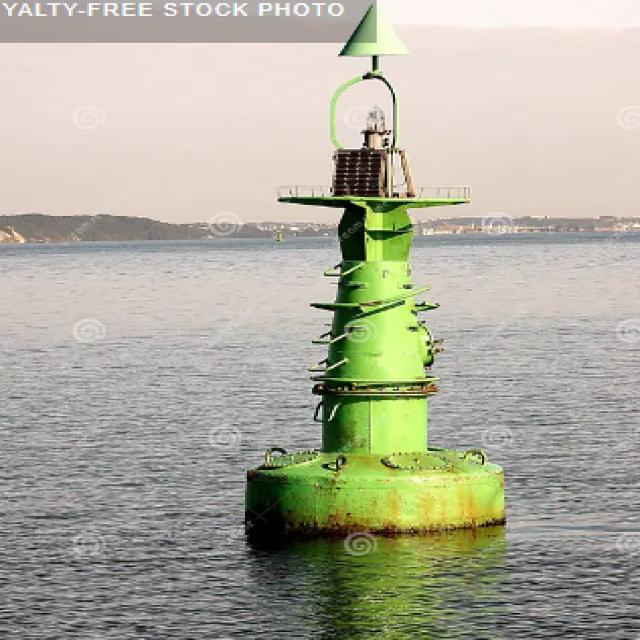buoy: (232, 4, 511, 544)
